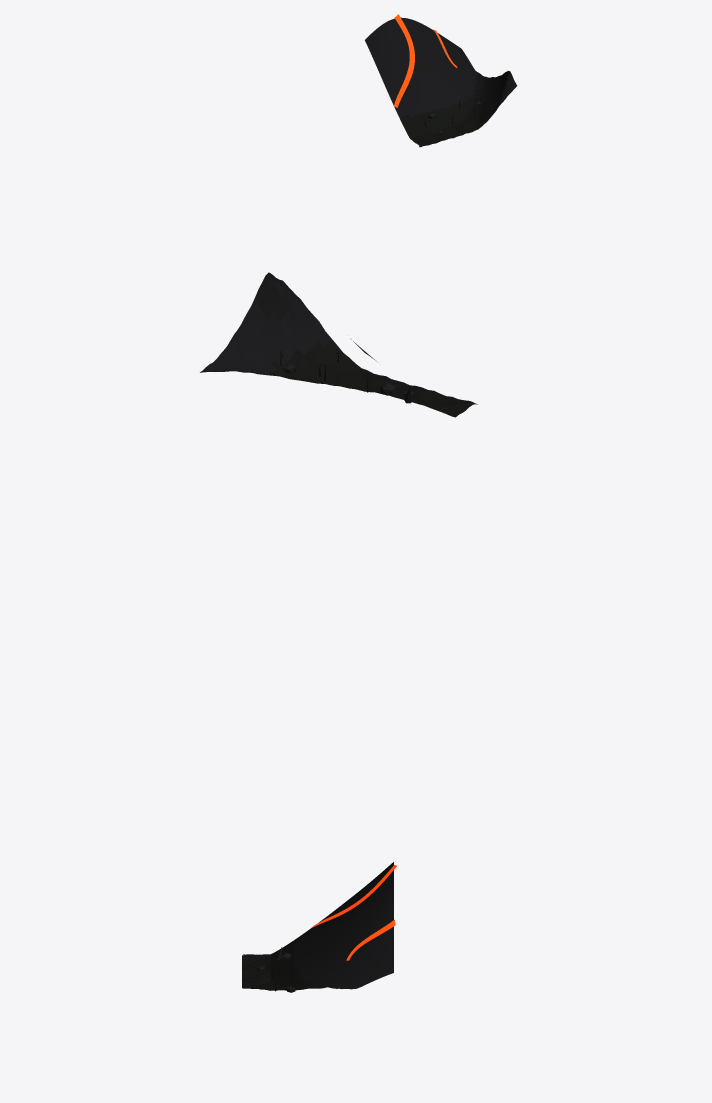
Rendered from chunk-6-2.glb.
3 views of the same model, one above another, from view 1: azimuth 30°, elevation 25°; view 2: azimuth 150°, elevation 25°; view 3: azimuth 270°, elevation 25° (orthographic). The views are drawn at different scales.
Parts seen in each view (by area): view 1: Mountain_Rock, Ash_Ground, Lava; view 2: Mountain_Rock, Ash_Ground, Cliff_Rock; view 3: Mountain_Rock, Ash_Ground, Lava.
Part boxes in pixels (x1=…): Mountain_Rock: x1=365, y1=17, x2=517, y2=117; Ash_Ground: x1=400, y1=94, x2=492, y2=147; Lava: x1=394, y1=14, x2=457, y2=107; Mountain_Rock: x1=200, y1=272, x2=378, y2=375; Ash_Ground: x1=267, y1=338, x2=474, y2=417; Cliff_Rock: x1=255, y1=272, x2=296, y2=321; Mountain_Rock: x1=294, y1=862, x2=393, y2=989; Ash_Ground: x1=242, y1=937, x2=313, y2=990; Lava: x1=311, y1=865, x2=396, y2=960.
Bounding box in the file's own units: 358 × 68.21 × 360.
